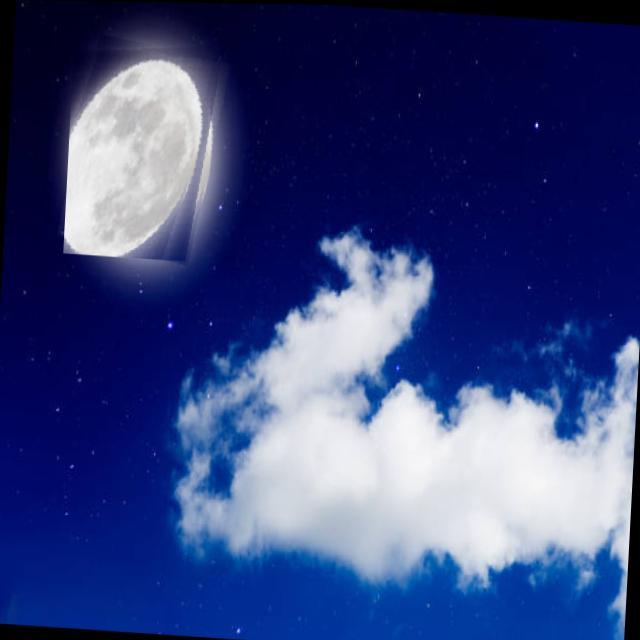moon: (64, 36, 225, 262)
